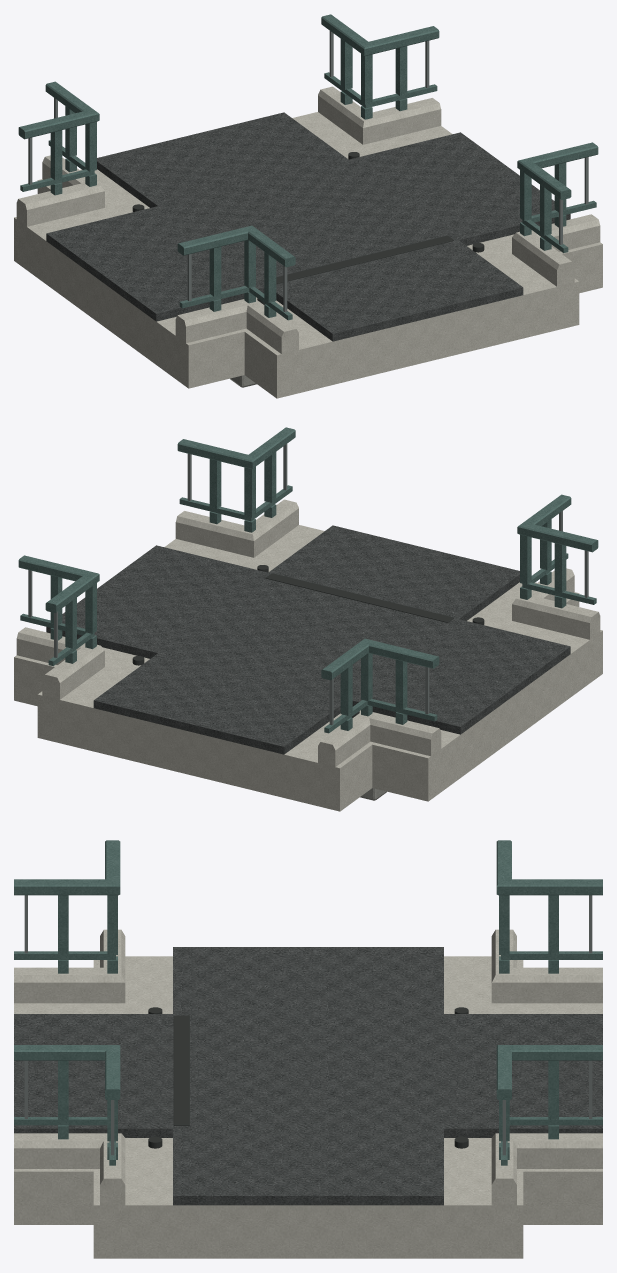
Rendered from BRG_LOCAL_DECK_1x1_CROSS.glb.
The picture shows the model from 3 angles, top to bottom: view 1: azimuth 30°, elevation 25°; view 2: azimuth 150°, elevation 25°; view 3: azimuth 270°, elevation 25°; orthographic projection. The views are drawn at different scales.
Parts seen in each view (by area): view 1: BRG_LOCAL_DECK_1x1_CROSS_Visual; view 2: BRG_LOCAL_DECK_1x1_CROSS_Visual; view 3: BRG_LOCAL_DECK_1x1_CROSS_Visual.
Boxes of the visible parts, x1,y1,x2,y2 form: BRG_LOCAL_DECK_1x1_CROSS_Visual: (14,14,602,398); BRG_LOCAL_DECK_1x1_CROSS_Visual: (14,427,602,811); BRG_LOCAL_DECK_1x1_CROSS_Visual: (14,840,602,1258).
Size of what is drawn, in the model's own units: 2 by 0.775 by 2.
6 materials, 4 textured.
